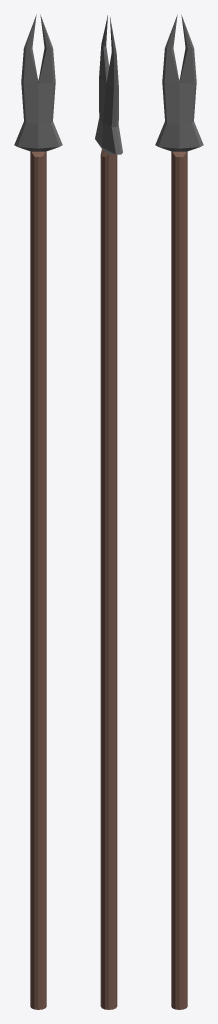
Rendered from Pointy Stick.fbx.
3 renders of one model, left to right at view 1: azimuth 90°, elevation 25°; view 2: azimuth 210°, elevation 25°; view 3: azimuth 270°, elevation 25°, orthographic.
Visible parts, largest first — view 1: Cylinder; view 2: Cylinder; view 3: Cylinder.
Part boxes in pixels (<box>): Cylinder: <box>14,14,62,1009</box>; Cylinder: <box>95,15,122,1009</box>; Cylinder: <box>155,14,203,1009</box>.
Size of the model in its own units: 200 by 13339 by 593.
